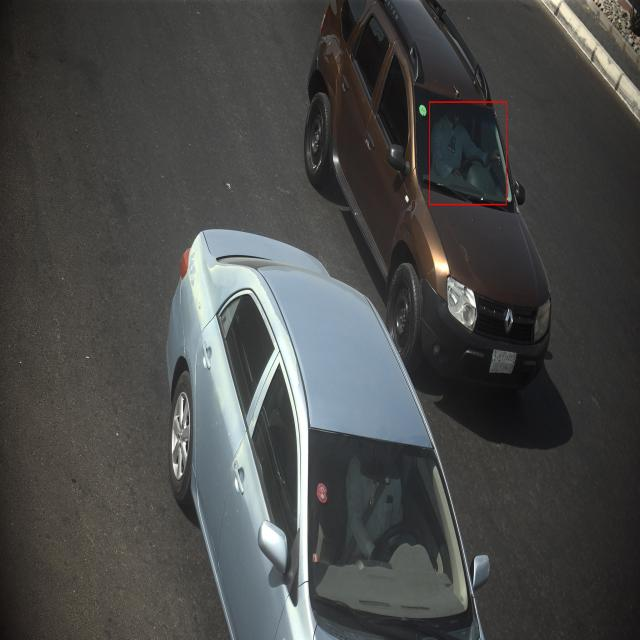windshield: (302, 417, 479, 635), (411, 79, 514, 218)
